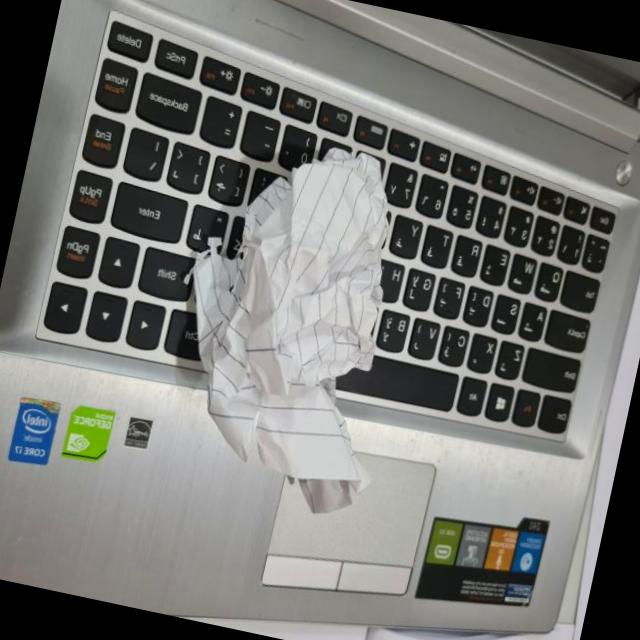cardboard paper: (184, 148, 388, 512)
